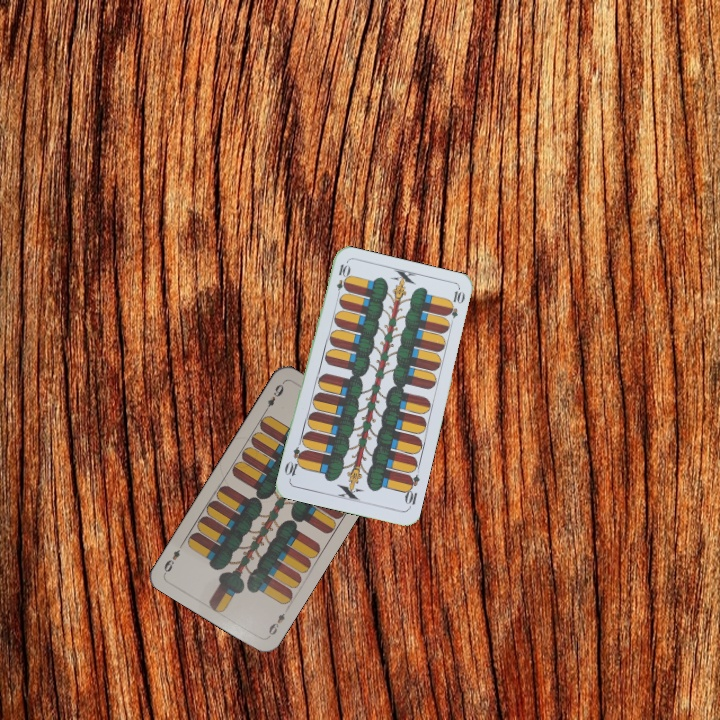E10: (400, 471, 422, 511), (332, 260, 351, 301)
E9: (264, 603, 291, 640), (260, 379, 286, 415)
